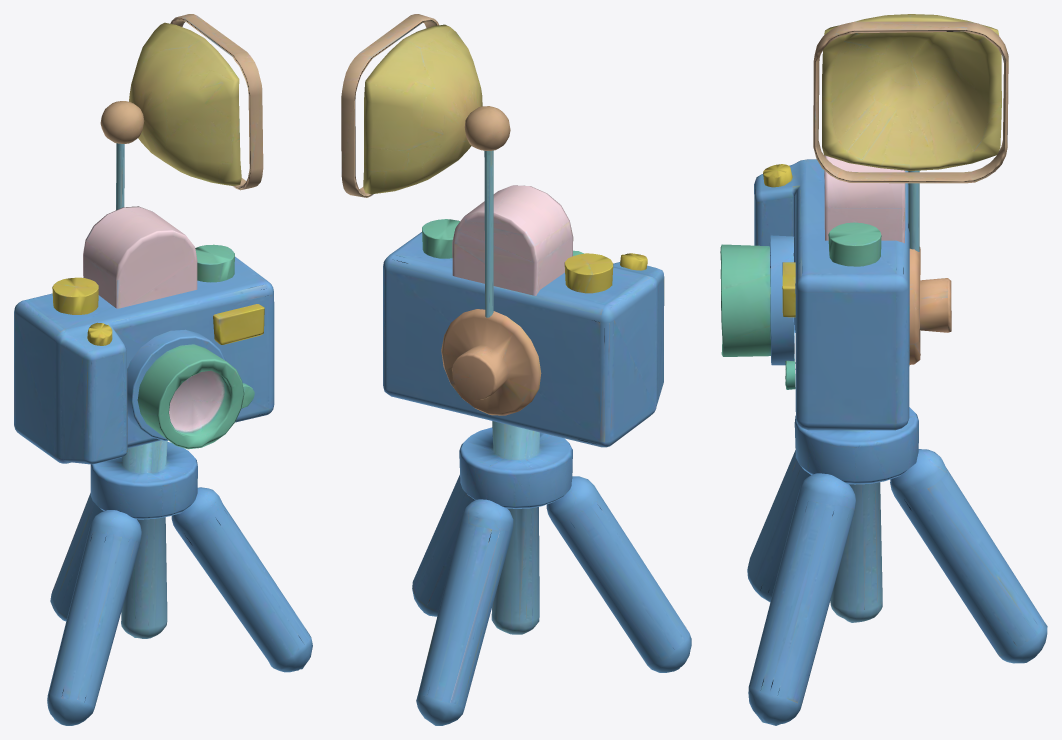
The model's file is camera-tripod.glb.
The picture shows the model from 3 angles, left to right: view 1: azimuth 30°, elevation 25°; view 2: azimuth 150°, elevation 25°; view 3: azimuth 270°, elevation 25°; orthographic projection. The views are drawn at different scales.
Visible parts, largest first — view 1: geometry_0; view 2: geometry_0; view 3: geometry_0.
Part boxes in pixels (bbox=[...]): geometry_0: bbox=[14, 14, 312, 725]; geometry_0: bbox=[341, 14, 691, 725]; geometry_0: bbox=[720, 14, 1047, 725].
Size of the model in its own units: 0.4557 by 1 by 0.4303.
1 material, 1 textured.
